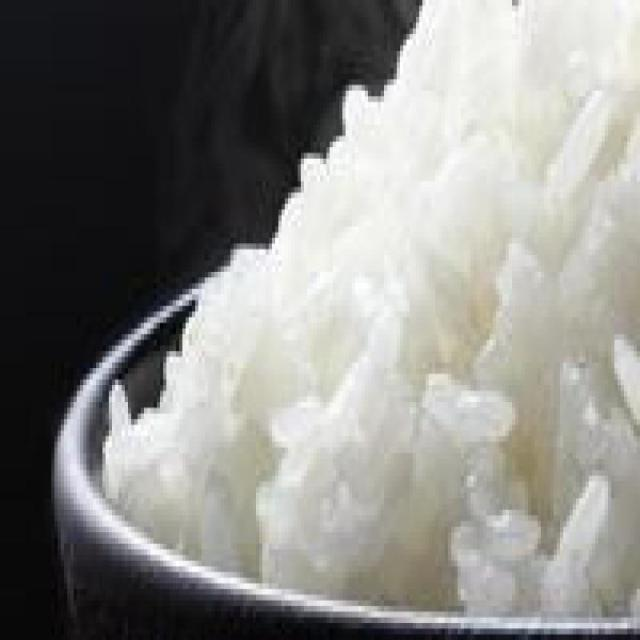nasi_putih: (106, 2, 640, 616)
